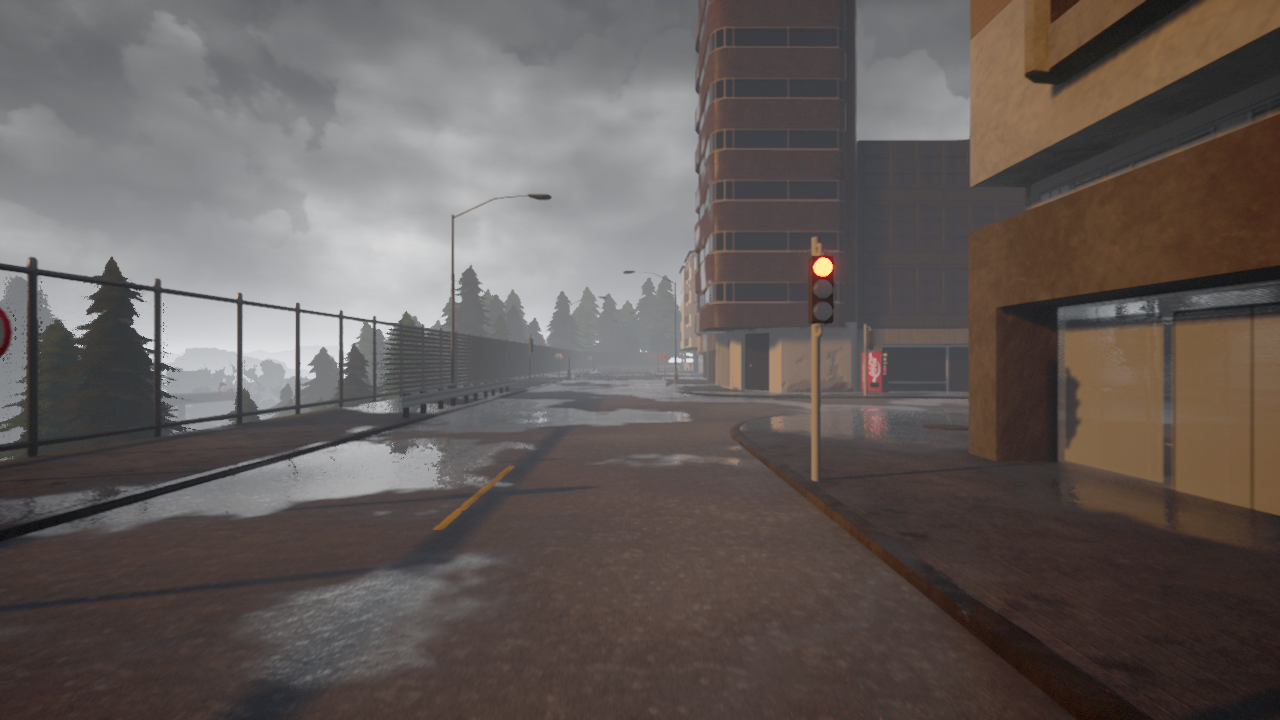red: (807, 255, 836, 322)
